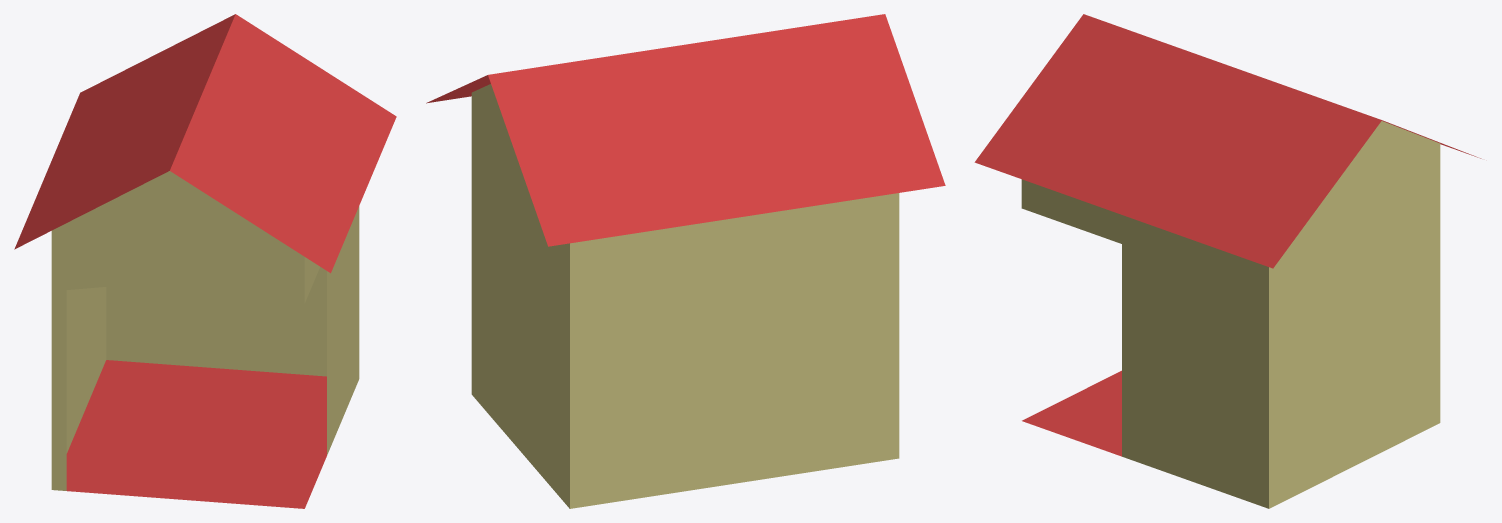
3 renders of one model, left to right at view 1: azimuth 30°, elevation 25°; view 2: azimuth 150°, elevation 25°; view 3: azimuth 270°, elevation 25°, orthographic. The views are drawn at different scales.
Size of the model in its own units: 15.16 by 15.37 by 11.7.
